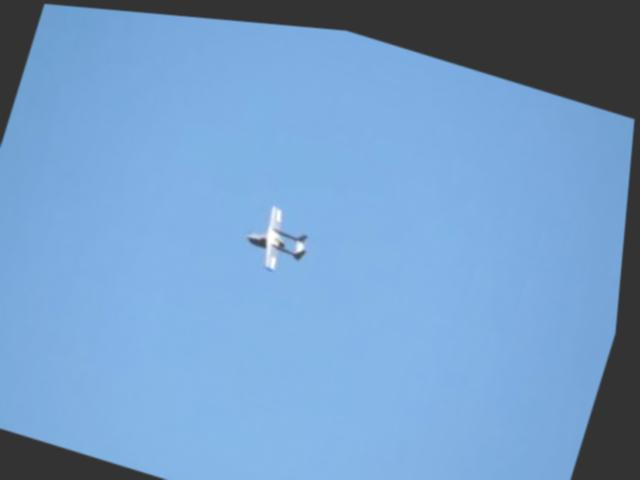uav: (239, 190, 323, 279)
